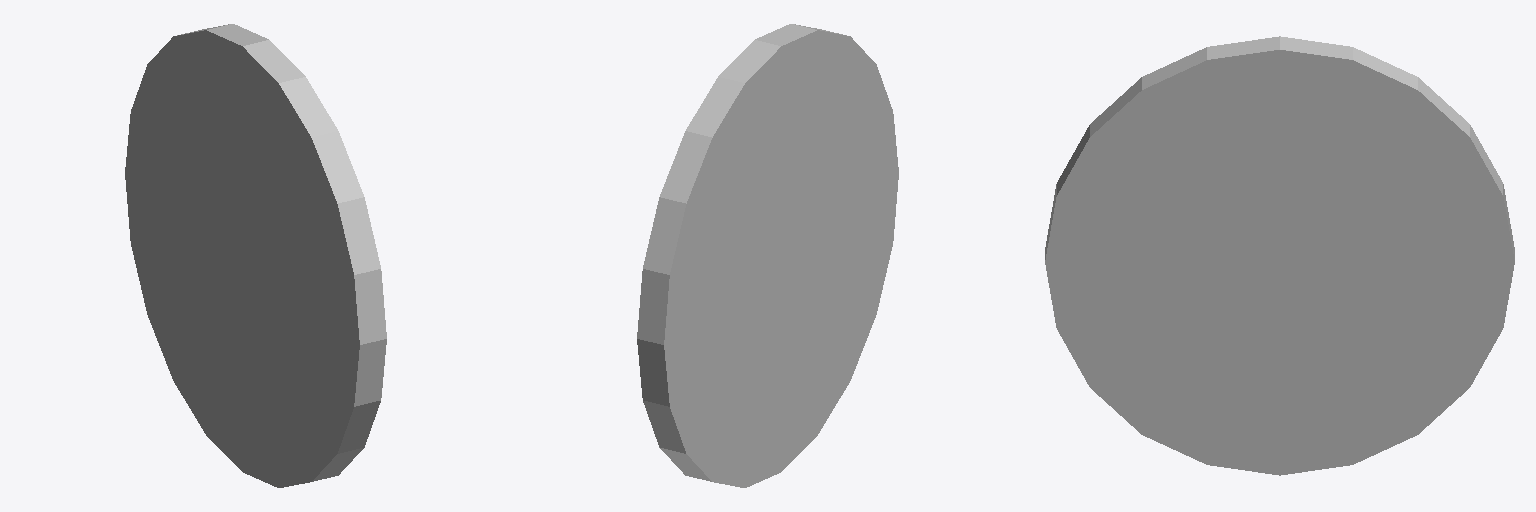
Rendered from tinker.obj.
The picture shows the model from 3 angles: view 1: azimuth 30°, elevation 25°; view 2: azimuth 150°, elevation 25°; view 3: azimuth 270°, elevation 25°; orthographic projection.
Visible parts, largest first — view 1: obj_0.041; view 2: obj_0.041; view 3: obj_0.041.
Part boxes in pixels (x1,y1,x2,y2): obj_0.041: (125, 24, 386, 487); obj_0.041: (637, 24, 898, 487); obj_0.041: (1045, 36, 1514, 475).
Size of the model in its own units: 0.6 by 9 by 9.